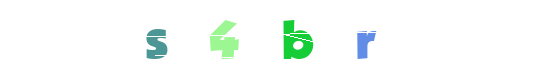4: (204, 0, 284, 80)
B: (241, 0, 321, 80)
R: (255, 0, 335, 80)
S: (189, 0, 269, 80)
